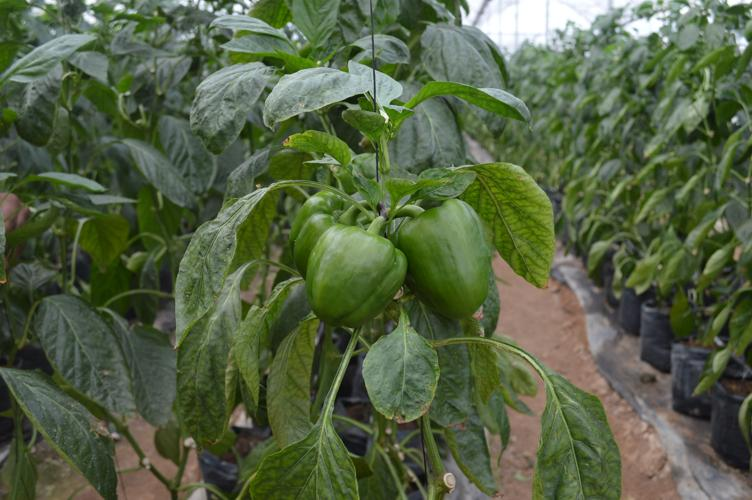BellPepper: (397, 198, 491, 319), (305, 224, 408, 328), (288, 191, 371, 272)
